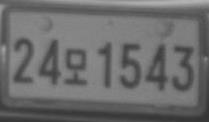1: (94, 41, 117, 89)
2: (11, 36, 34, 84)
3: (171, 44, 195, 91)
4: (143, 42, 169, 90), (37, 38, 62, 85)
5: (119, 41, 141, 89)
모: (64, 48, 88, 86)
